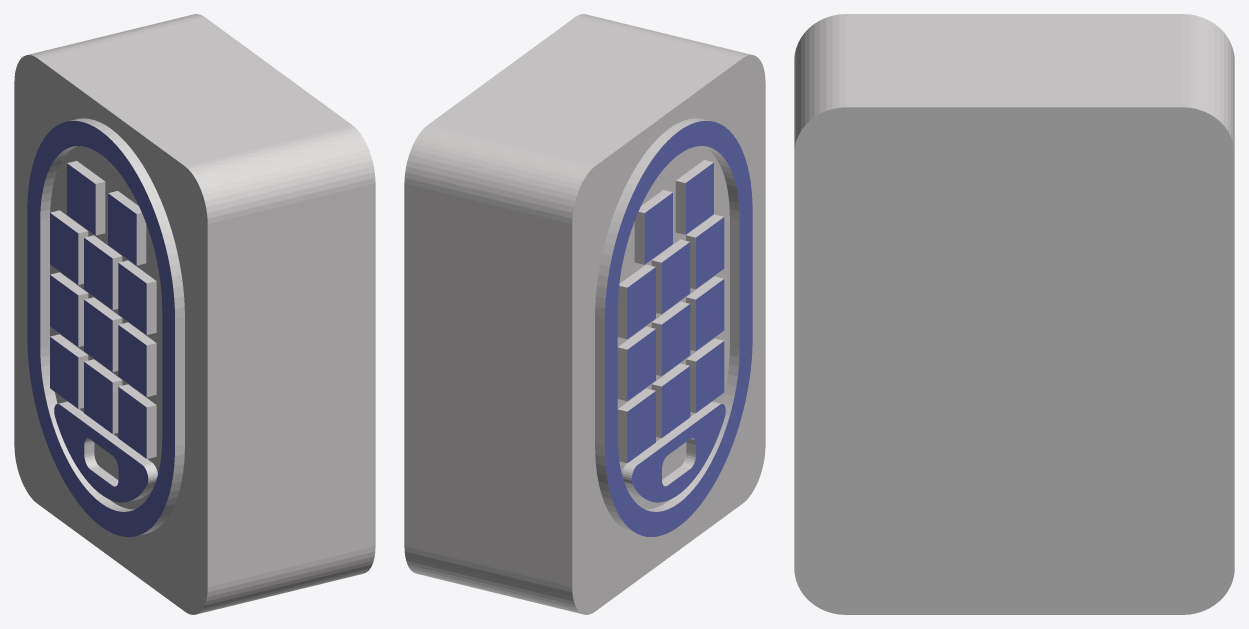
The picture shows the model from 3 angles, left to right: view 1: azimuth 30°, elevation 25°; view 2: azimuth 150°, elevation 25°; view 3: azimuth 270°, elevation 25°; orthographic projection. The views are drawn at different scales.
Parts seen in each view (by area): view 1: entity_2; view 2: entity_2; view 3: entity_2.
Boxes of the visible parts, <box> form: entity_2: <box>14,14,375,614</box>; entity_2: <box>404,14,765,614</box>; entity_2: <box>794,14,1234,614</box>.
Size of the model in its own units: 450 by 1078 by 848.
